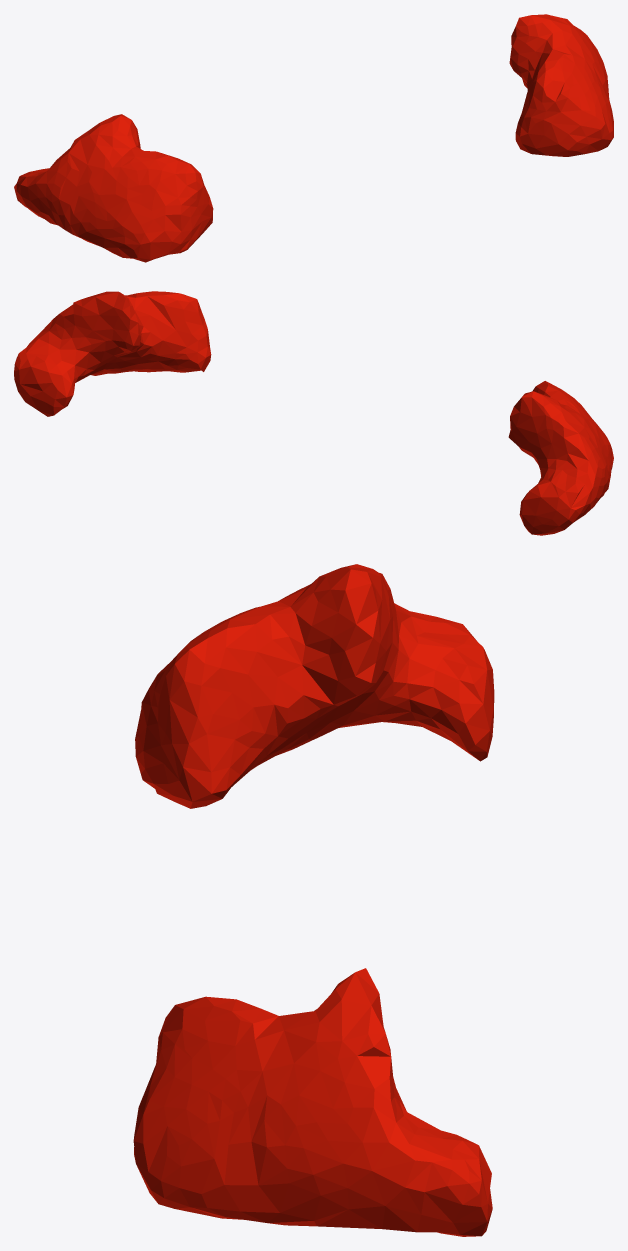
Rendered from 204-9.46D-area 9.46 of cortex, dorsal part-('1.0000', '0.1137', '0.0000').obj.
3 renders of one model, top to bottom at view 1: azimuth 30°, elevation 25°; view 2: azimuth 150°, elevation 25°; view 3: azimuth 270°, elevation 25°, orthographic. The views are drawn at different scales.
Bounding box in the file's own units: 209 × 39.34 × 57.38.
